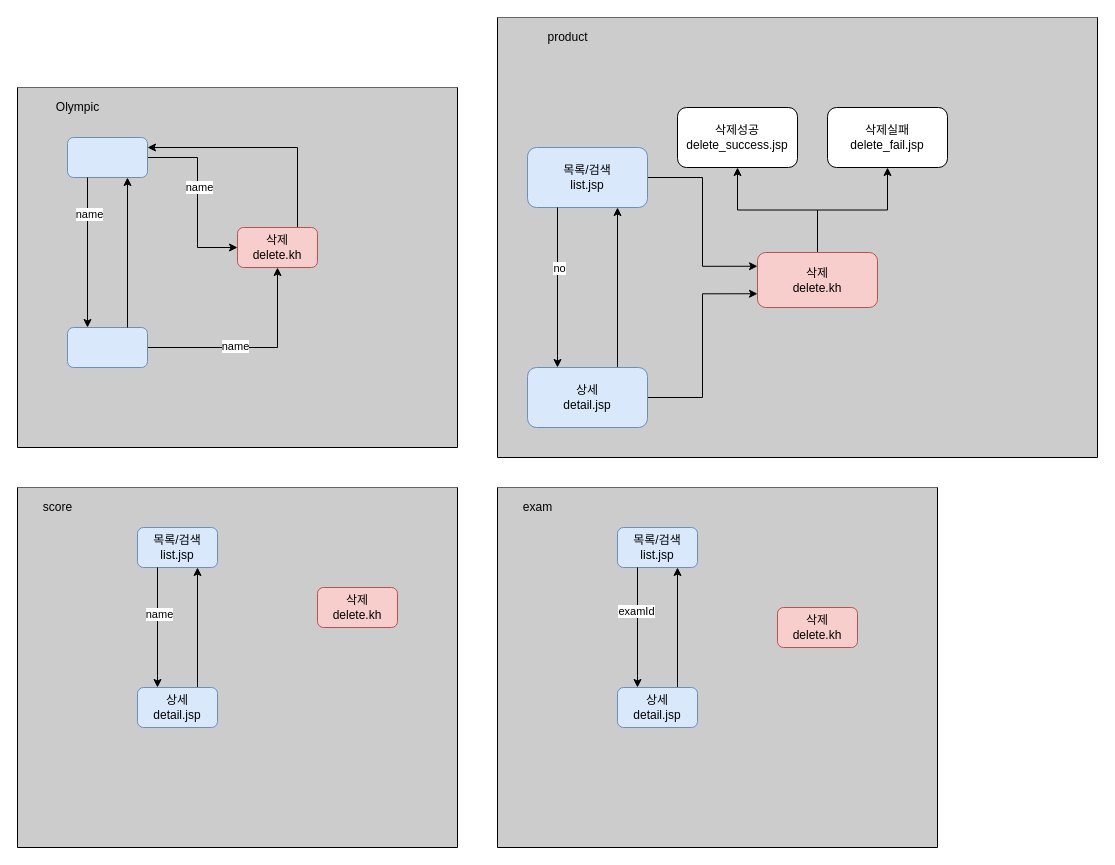
This 1115x865 diagram has some shape labels left out. Each missing label, with the box of its shape:
detail.jsp: (66, 326, 148, 368)
list.jsp: (66, 136, 148, 178)
